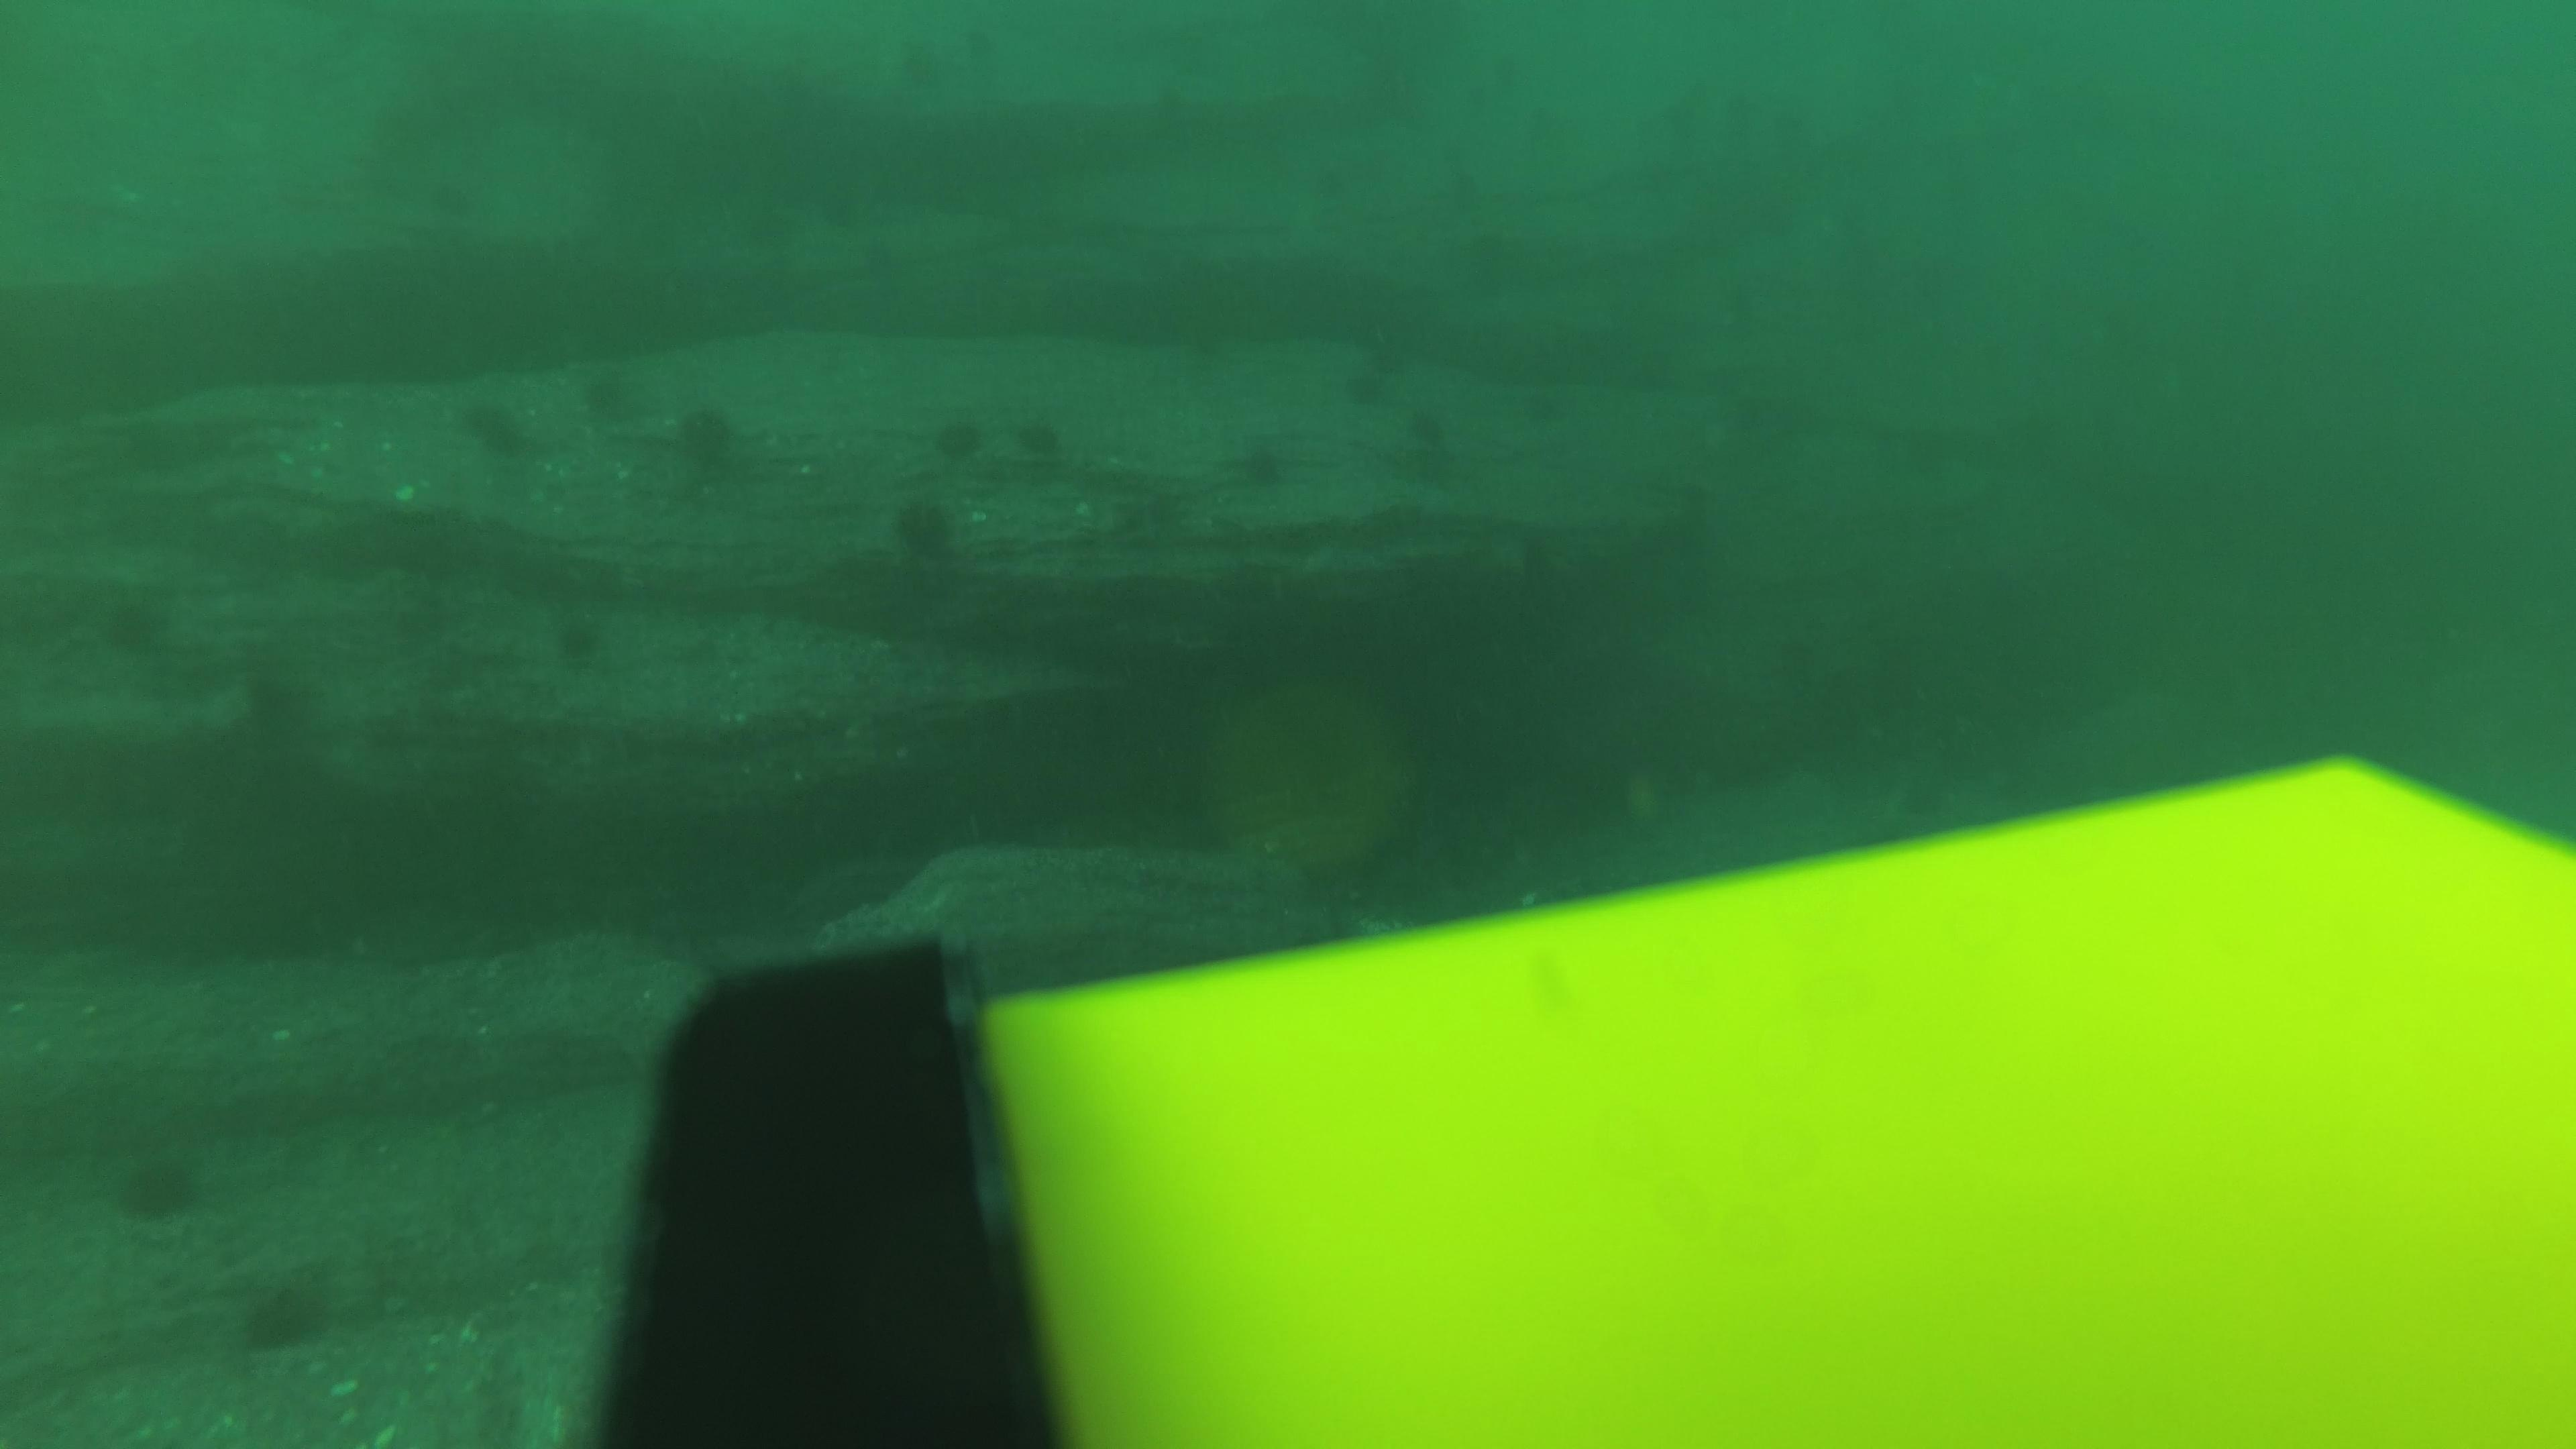echinus: (656, 396, 757, 494), (232, 1270, 338, 1361), (106, 1141, 211, 1230), (90, 582, 182, 667), (451, 391, 541, 467), (883, 492, 968, 571), (571, 363, 653, 435), (543, 607, 616, 676), (1224, 432, 1299, 497), (1166, 308, 1240, 373), (1008, 409, 1074, 472), (925, 405, 991, 467), (794, 172, 860, 228), (847, 235, 913, 292), (414, 166, 479, 223), (941, 16, 1007, 73), (1507, 377, 1573, 433), (1460, 214, 1525, 271), (1771, 633, 1836, 690), (1642, 83, 1707, 140), (1430, 156, 1493, 212), (1143, 57, 1207, 113), (1398, 403, 1463, 458), (1332, 364, 1398, 419), (1359, 338, 1424, 393), (1286, 147, 1352, 202), (1729, 380, 1794, 435), (1665, 467, 1730, 522), (1504, 515, 1569, 570), (1472, 42, 1537, 97), (888, 42, 952, 97), (1882, 425, 1946, 479)
